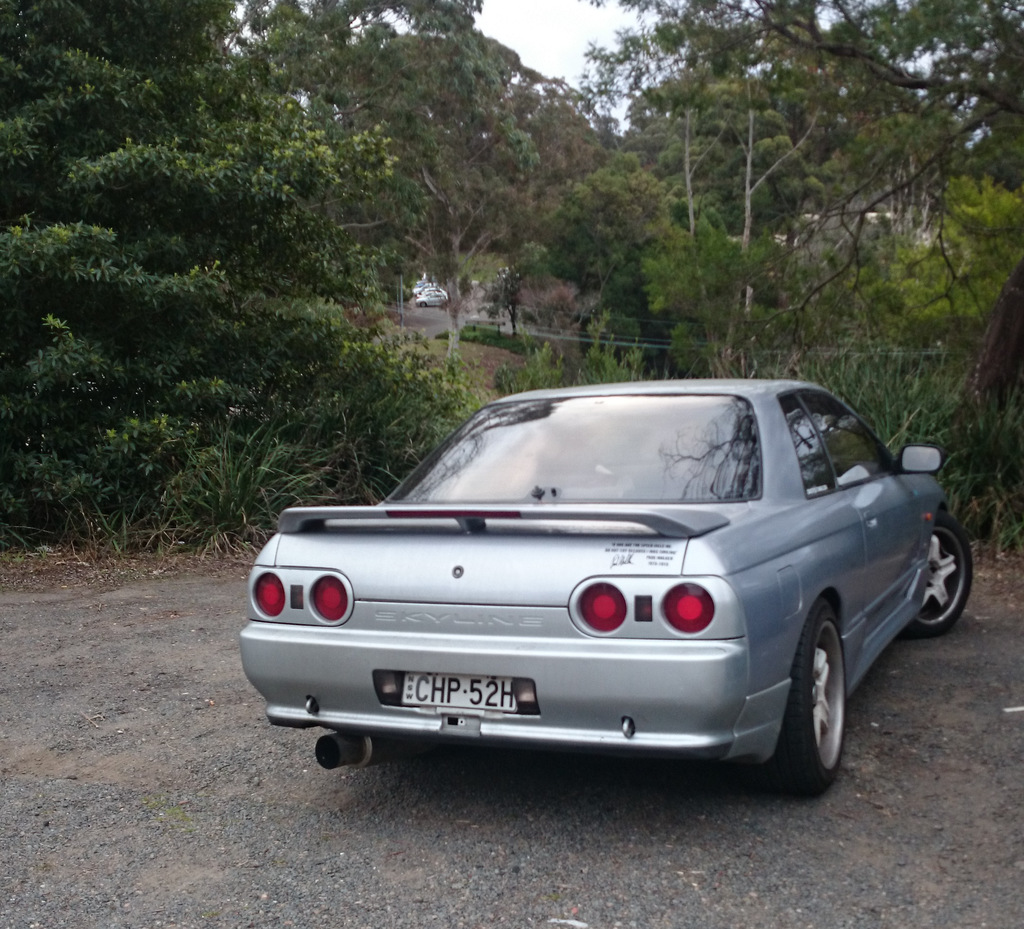mobil: (207, 356, 995, 816)
